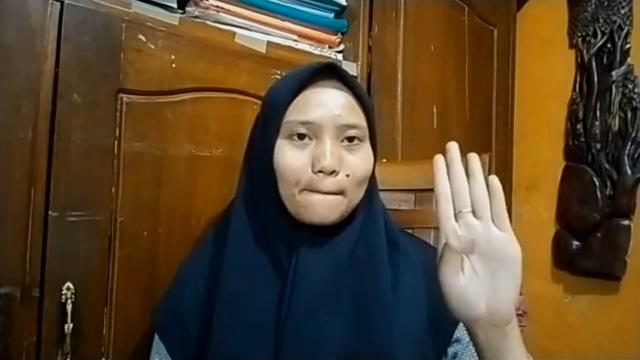B: (428, 140, 524, 318)
